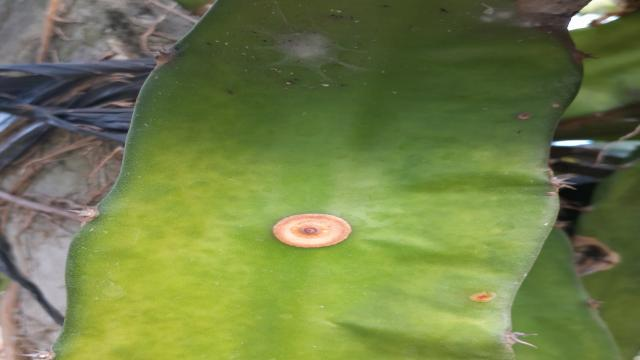stemcanker: (267, 207, 360, 252), (468, 291, 498, 305)
